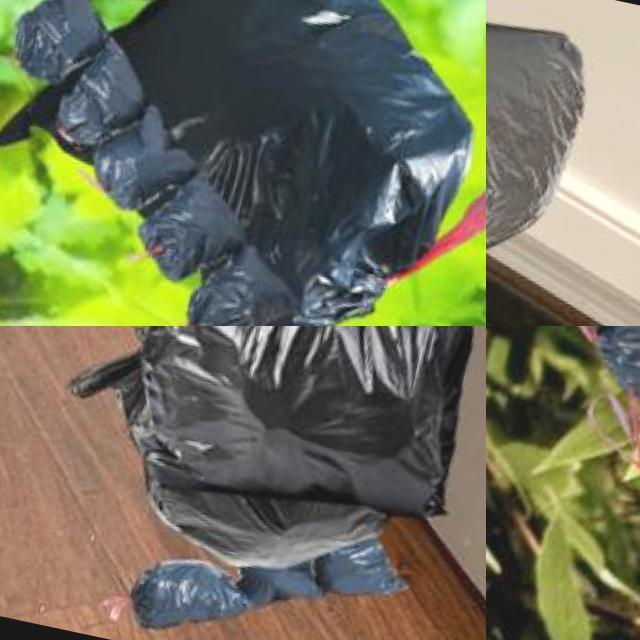waste: (0, 0, 486, 326), (116, 326, 486, 554), (486, 0, 588, 326), (127, 539, 287, 640), (138, 166, 254, 294), (52, 28, 157, 157), (90, 101, 204, 216), (189, 234, 309, 326), (9, 0, 110, 90), (314, 530, 414, 604)
